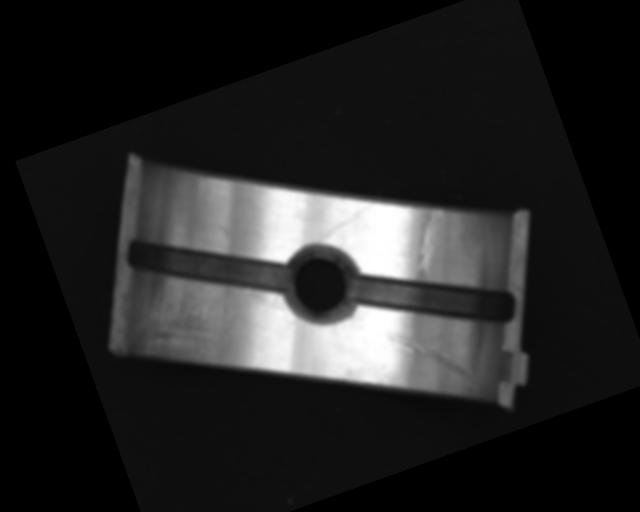gap: (121, 195, 294, 337), (349, 231, 519, 365)
hole: (270, 232, 373, 336)
nick: (386, 311, 481, 417), (397, 203, 463, 281), (308, 200, 382, 244)
scratch: (112, 257, 258, 393)
